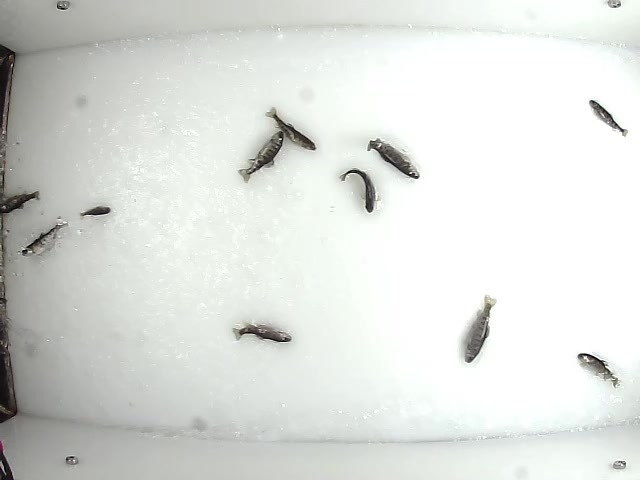fish: (461, 294, 499, 364), (236, 130, 285, 184), (366, 136, 424, 180), (265, 107, 320, 153), (19, 212, 70, 259), (587, 97, 631, 141), (337, 167, 377, 215), (576, 349, 623, 389), (230, 321, 293, 346), (1, 187, 42, 217), (75, 204, 113, 221)
